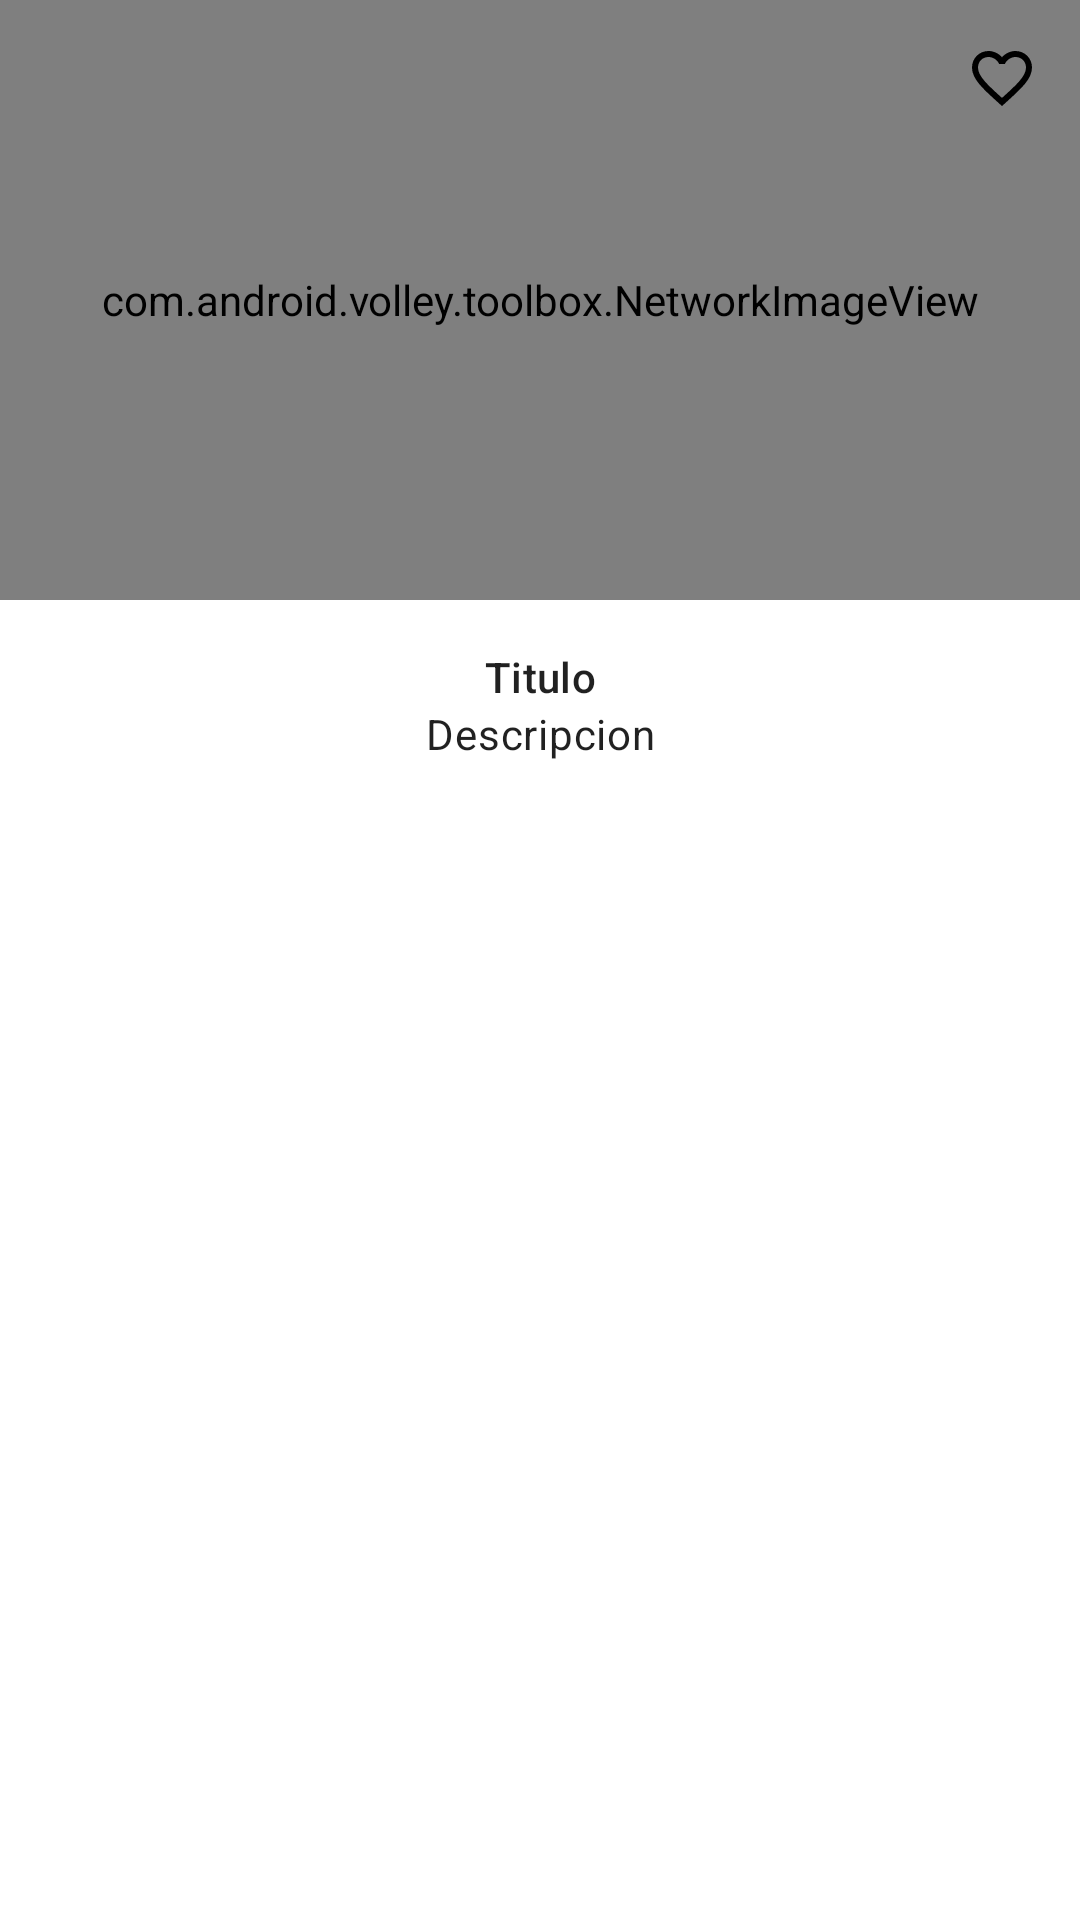

Icon click points for this 1080x1920 phone screenshot, format (x,y):
Agregar a favoritos: (1002,78)
